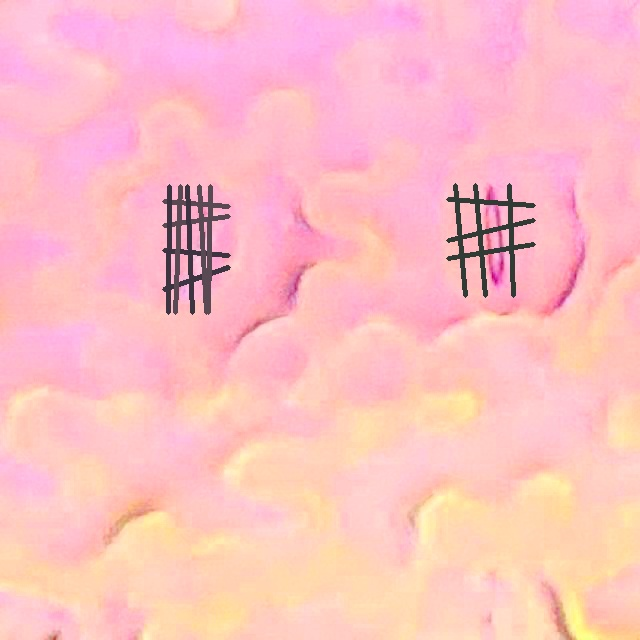open: (446, 183, 535, 297), (163, 184, 229, 314)
